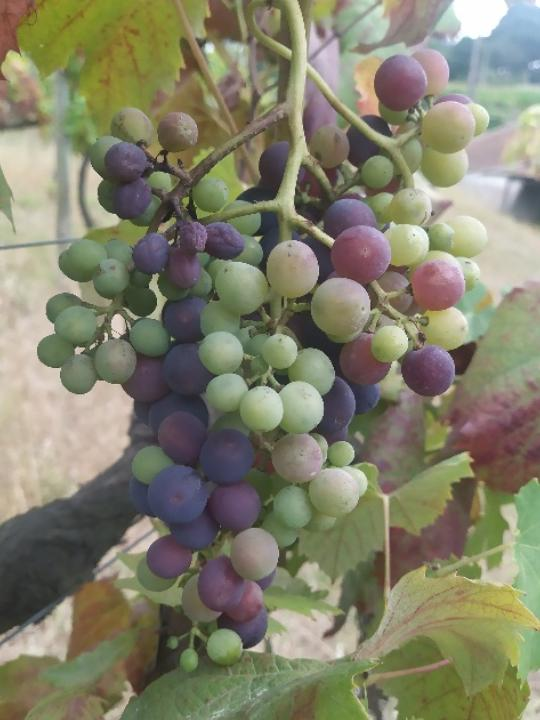grape: (34, 44, 491, 675)
